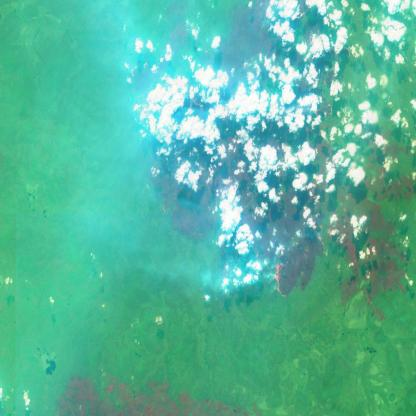fire: (272, 257, 290, 307), (314, 218, 328, 251)
